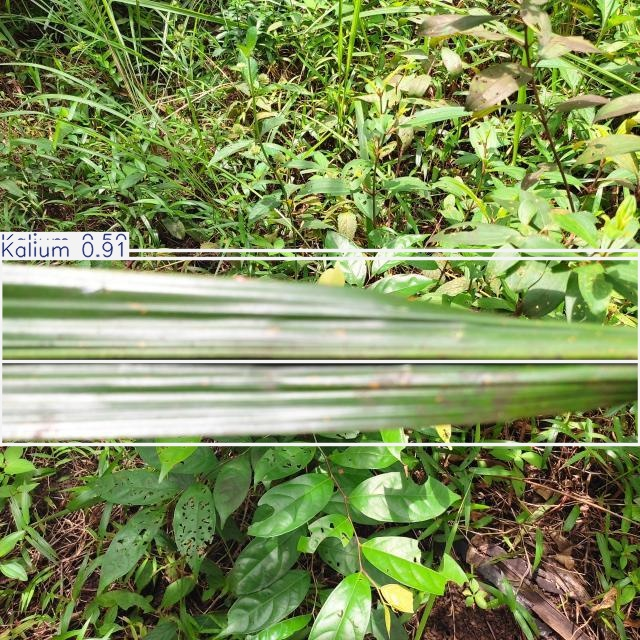Kalium: (0, 251, 640, 445), (0, 259, 640, 361)
